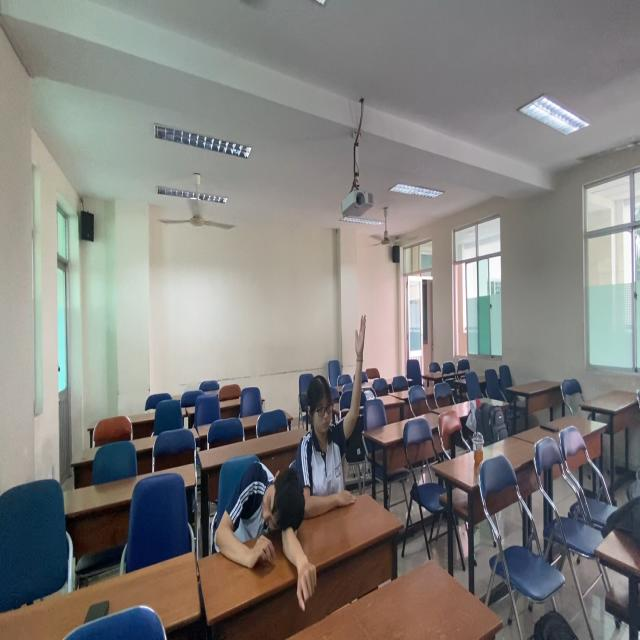raise_hand: (302, 309, 368, 510)
sleep: (214, 457, 309, 578)
